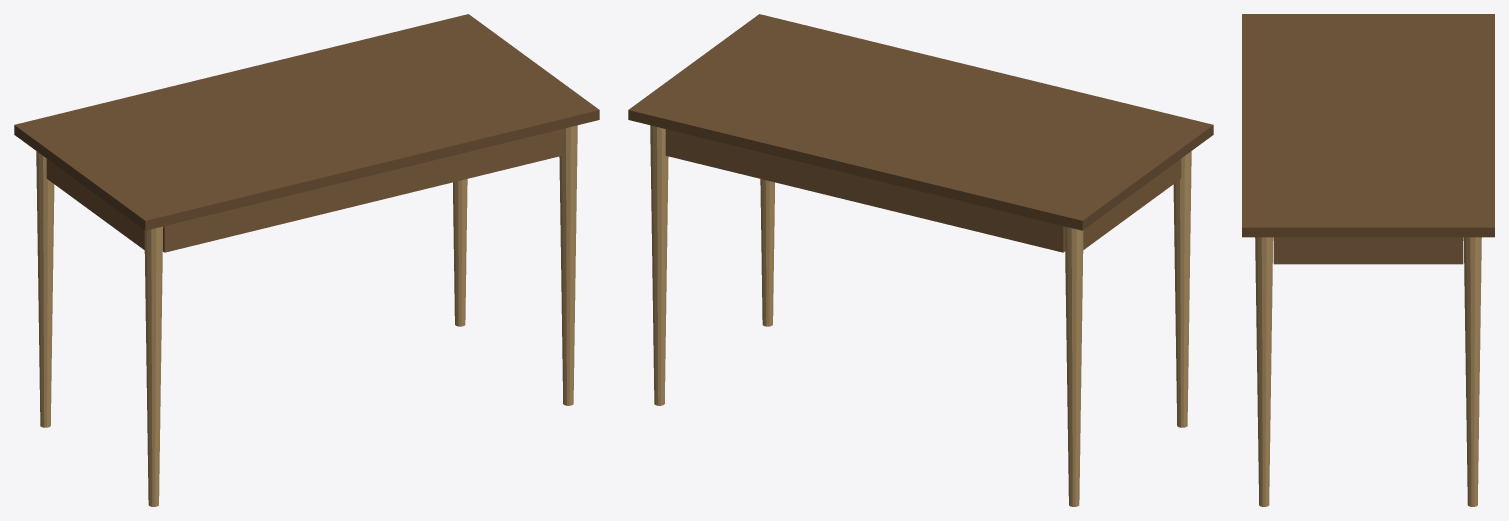
File: ATL-DSK-std.glb
The picture shows the model from 3 angles, left to right: view 1: azimuth 30°, elevation 25°; view 2: azimuth 150°, elevation 25°; view 3: azimuth 270°, elevation 25°; orthographic projection. The views are drawn at different scales.
Parts seen in each view (by area): view 1: top:pbr, apron-f:pbr, leg-fl:pbr, leg-fr:pbr, leg-bl:pbr, apron-l:pbr, leg-br:pbr; view 2: top:pbr, apron-b:pbr, leg-bl:pbr, leg-br:pbr, leg-fl:pbr, apron-l:pbr, leg-fr:pbr; view 3: top:pbr, apron-r:pbr, leg-fr:pbr, leg-br:pbr.
Part boxes in pixels (left/top/right/bottom): top:pbr: left=14, top=14, right=599, bottom=230; apron-f:pbr: left=163, top=129, right=562, bottom=252; leg-fl:pbr: left=144, top=226, right=163, bottom=506; leg-fr:pbr: left=559, top=125, right=577, bottom=405; leg-bl:pbr: left=36, top=151, right=54, bottom=427; apron-l:pbr: left=46, top=159, right=144, bottom=249; leg-br:pbr: left=453, top=179, right=467, bottom=326; top:pbr: left=628, top=14, right=1213, bottom=230; apron-b:pbr: left=665, top=129, right=1064, bottom=252; leg-bl:pbr: left=1064, top=226, right=1083, bottom=506; leg-br:pbr: left=650, top=125, right=668, bottom=405; leg-fl:pbr: left=1173, top=151, right=1191, bottom=427; apron-l:pbr: left=1083, top=159, right=1181, bottom=249; leg-fr:pbr: left=760, top=179, right=774, bottom=326; top:pbr: left=1242, top=14, right=1494, bottom=237; apron-r:pbr: left=1273, top=237, right=1463, bottom=264; leg-fr:pbr: left=1255, top=237, right=1273, bottom=506; leg-br:pbr: left=1463, top=237, right=1481, bottom=506.
Size of the model in its own units: 1.2 by 0.75 by 0.6.
